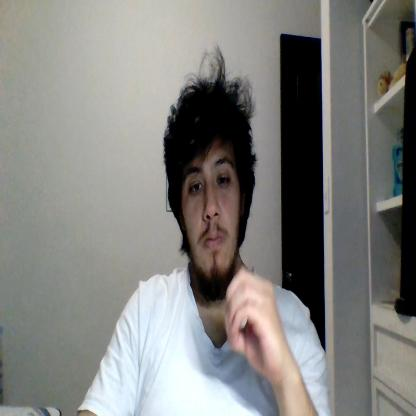O: (224, 268, 285, 375)
